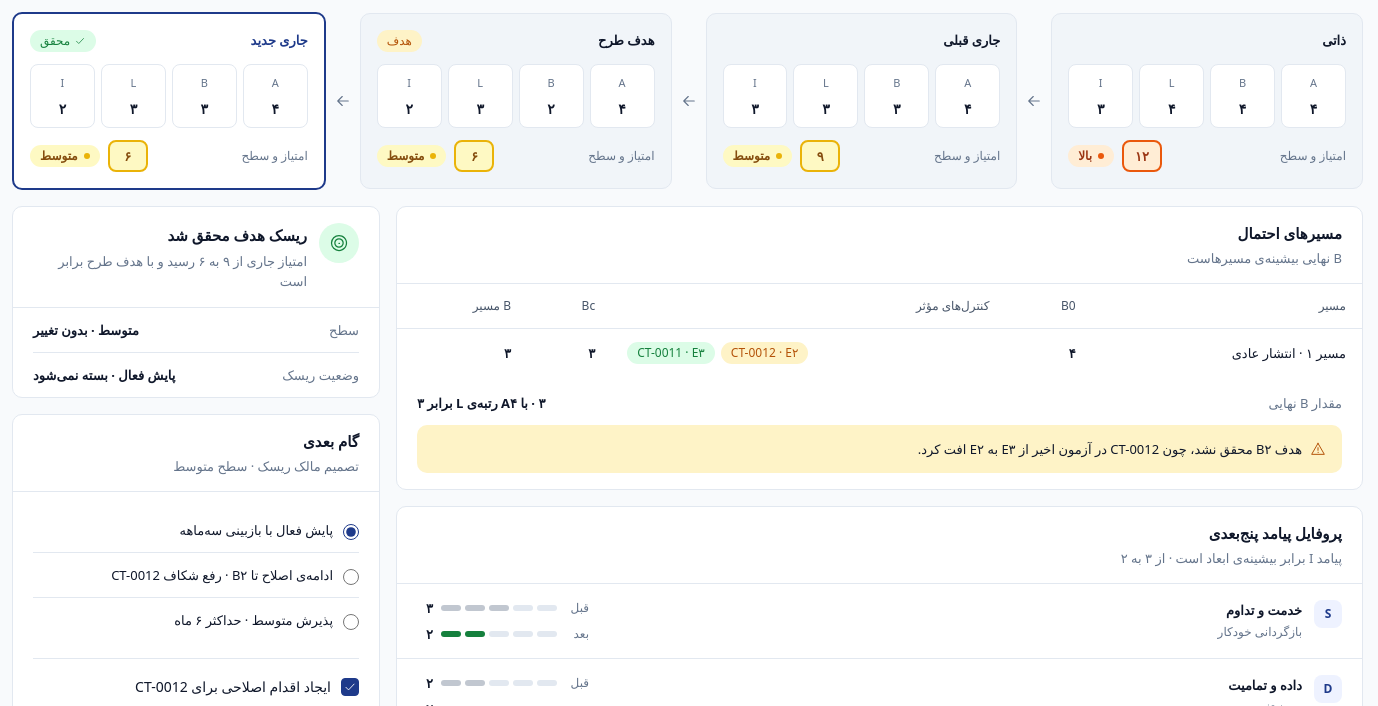
Test: PostActionPage › records the owner's decision with a corrective action
The image size is (1378, 706).
Expected: the radio button labelled "پایش فعال با بازبینی سه‌ماهه" is checked, top-left (343, 524), bottom-right (359, 540)
Expected: the checkbox labelled "ایجاد اقدام اصلاحی برای CT-0012" is checked, top-left (341, 678), bottom-right (359, 696)
Click the radio button labelled "ادامه‌ی اصلاح تا B۲ · رفع شکاف CT-0012". click: (351,577)
box: top-left (343, 569), bottom-right (359, 585)
(page scrolled)
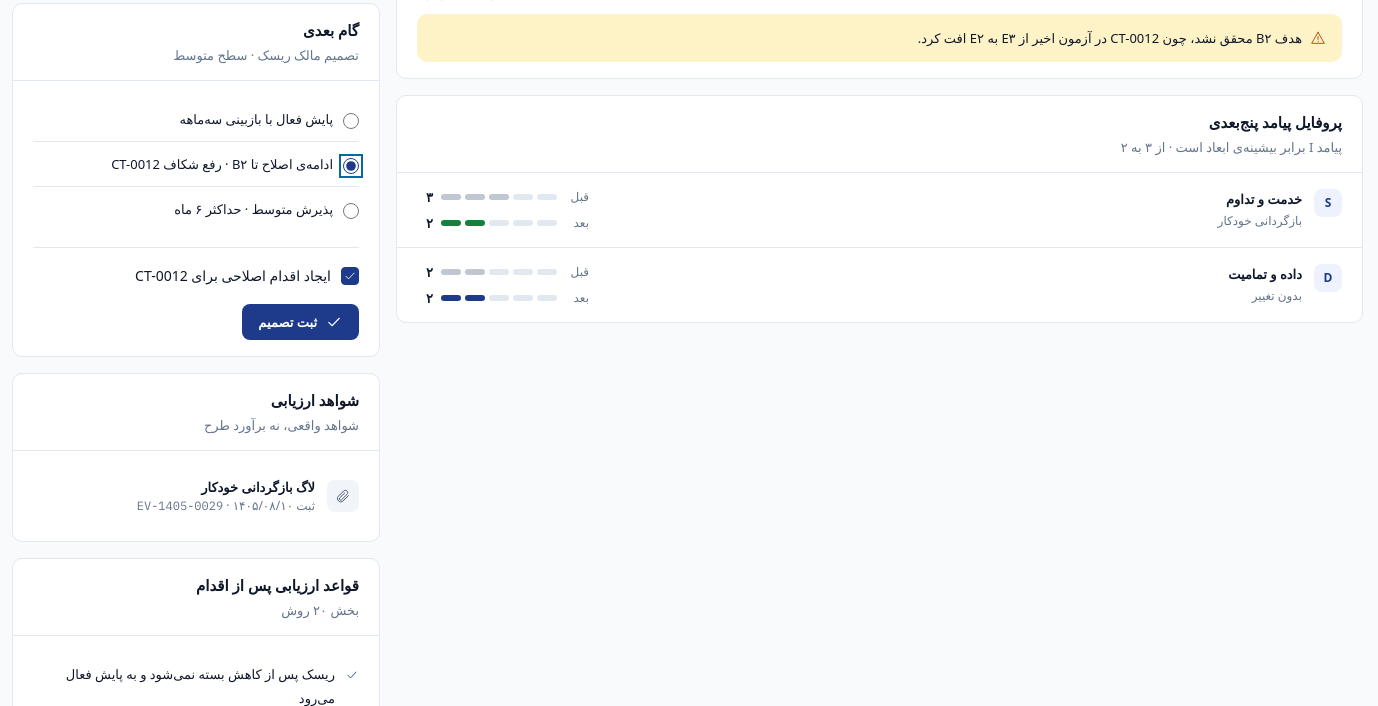
Click the button "ثبت تصمیم". click: (301,322)
box: top-left (242, 304), bottom-right (359, 340)
(page scrolled)
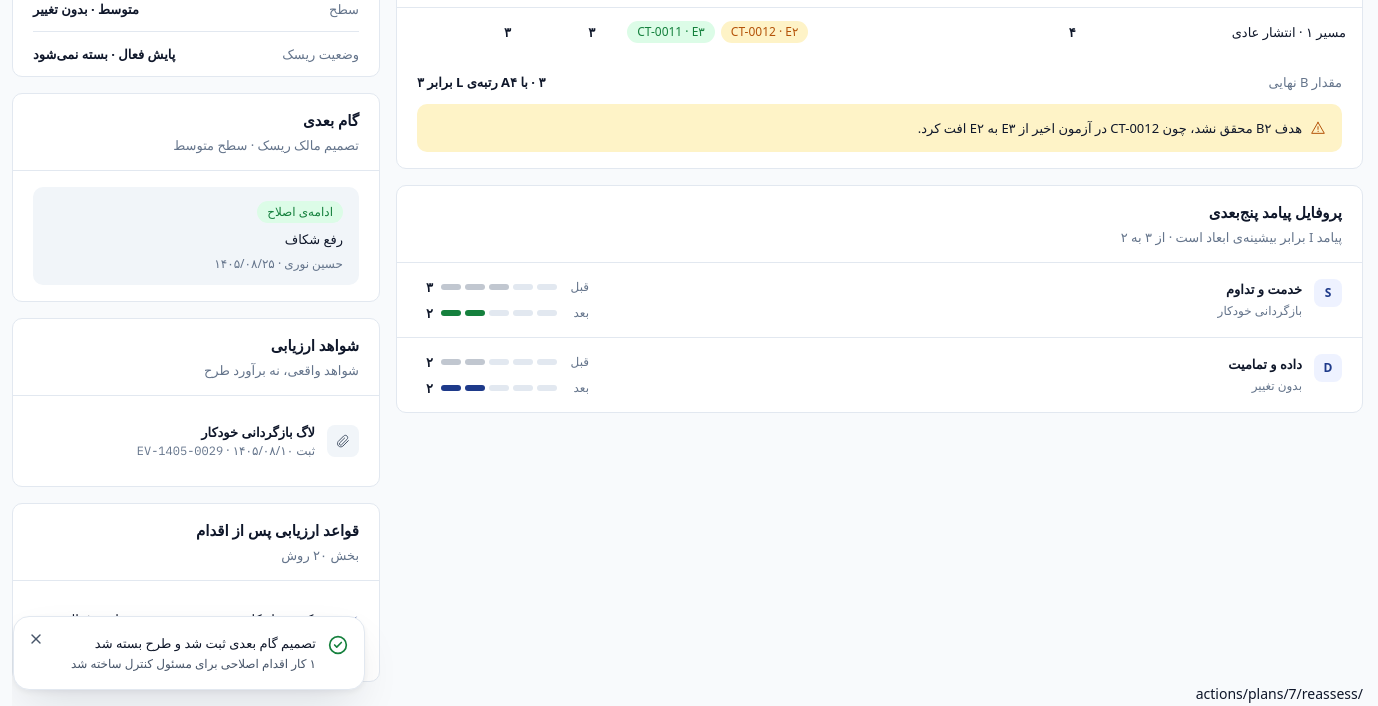
Expected: the text "رفع شکاف" is shown, top-left (285, 230), bottom-right (343, 248)
Expected: the button "ثبت تصمیم" is gone
